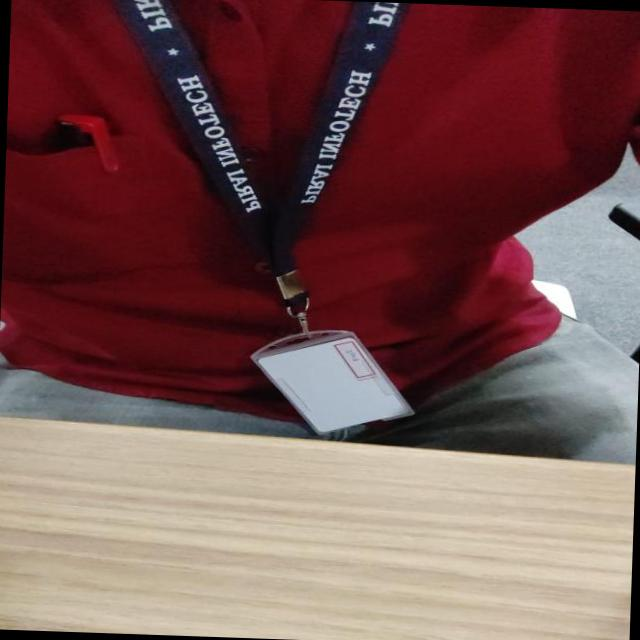id_card: (96, 0, 427, 439)
